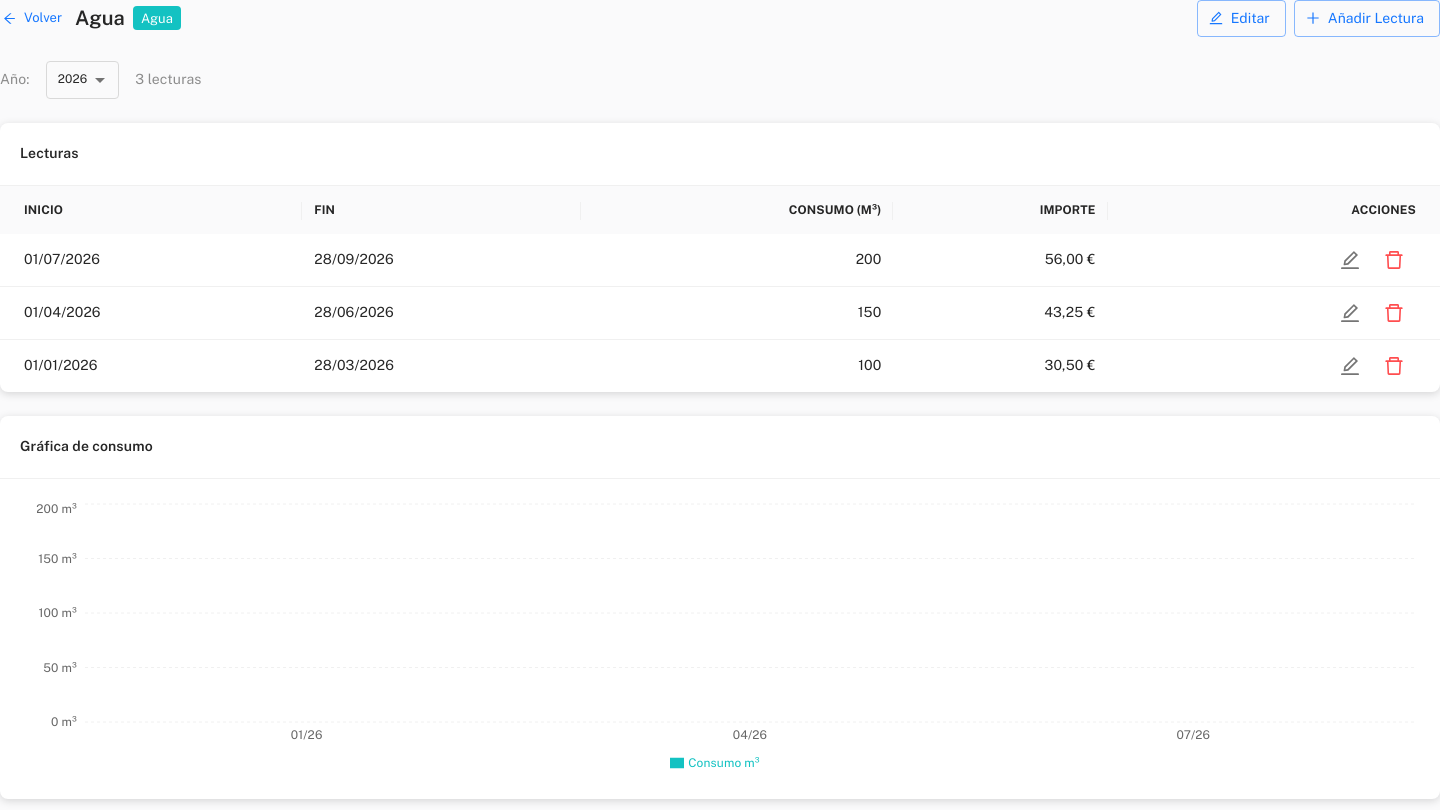
Test: Flow: reading CRUD in SupplyDetail › edit reading → submit → modal closes
This screenshot has width=1440, height=810.
Click the button named "editar lectura" in the row of "56,00 €".
click(1350, 260)  # box left=1328, top=238, right=1372, bottom=282
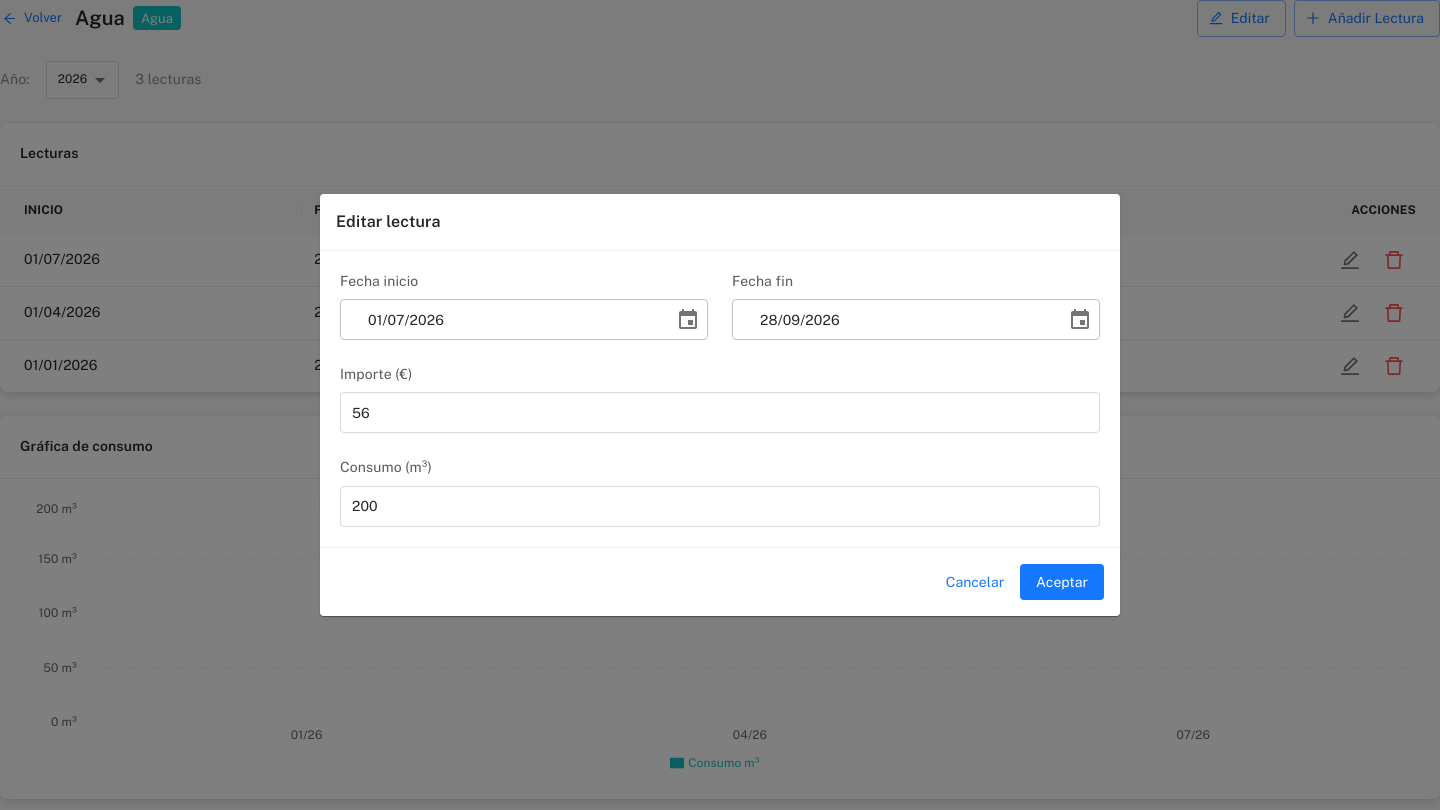
Check: the text "Editar lectura" is shown, box left=336, top=212, right=440, bottom=231
Submit the form, box left=320, top=194, right=1120, bottom=616
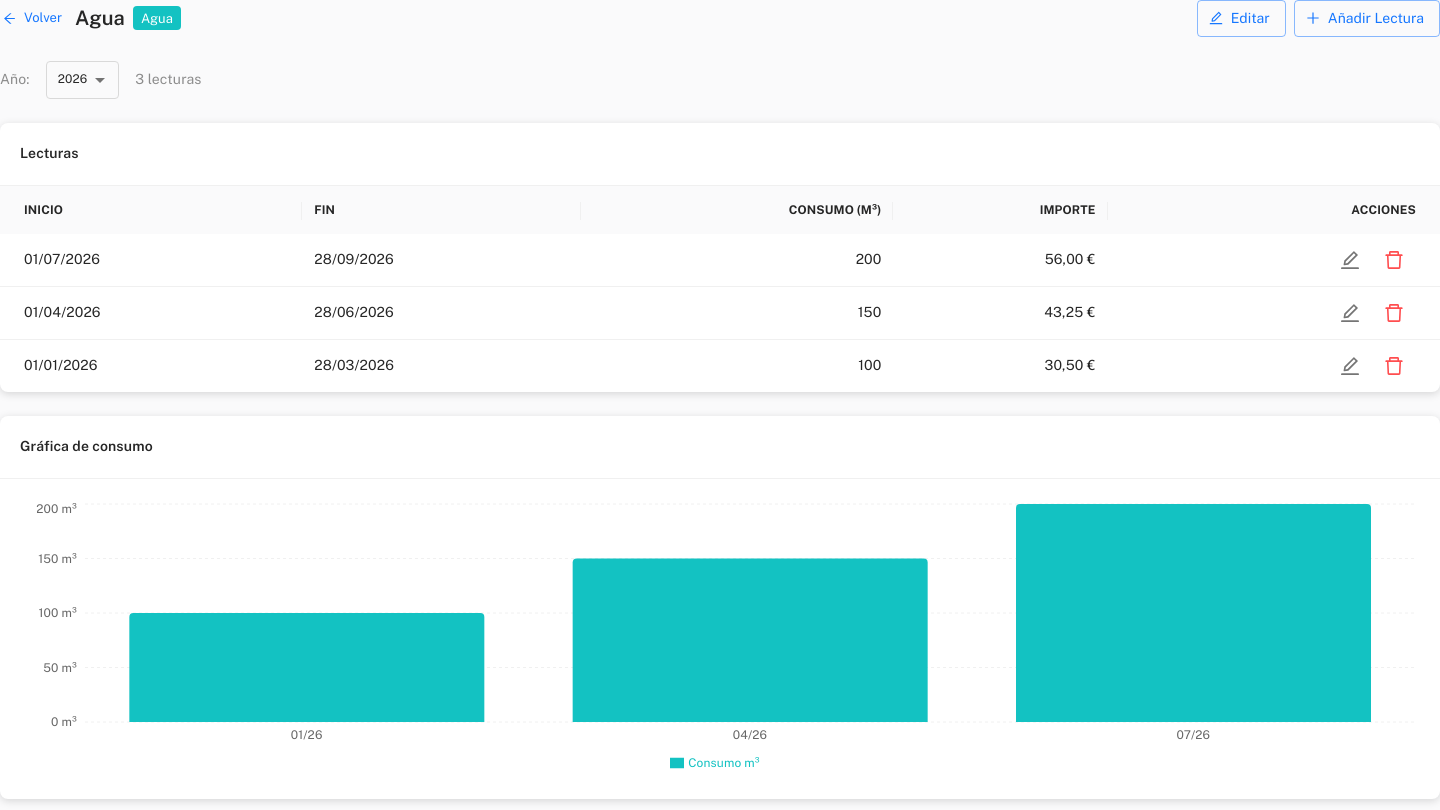
Check: the text "Editar lectura" is gone
